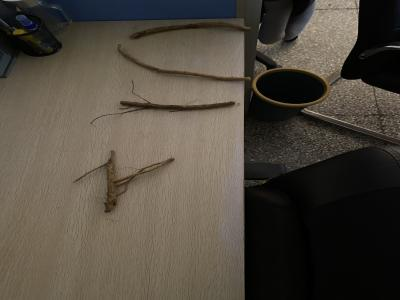Root: (76, 151, 174, 213), (117, 44, 251, 81), (129, 22, 250, 39), (120, 101, 235, 111)
